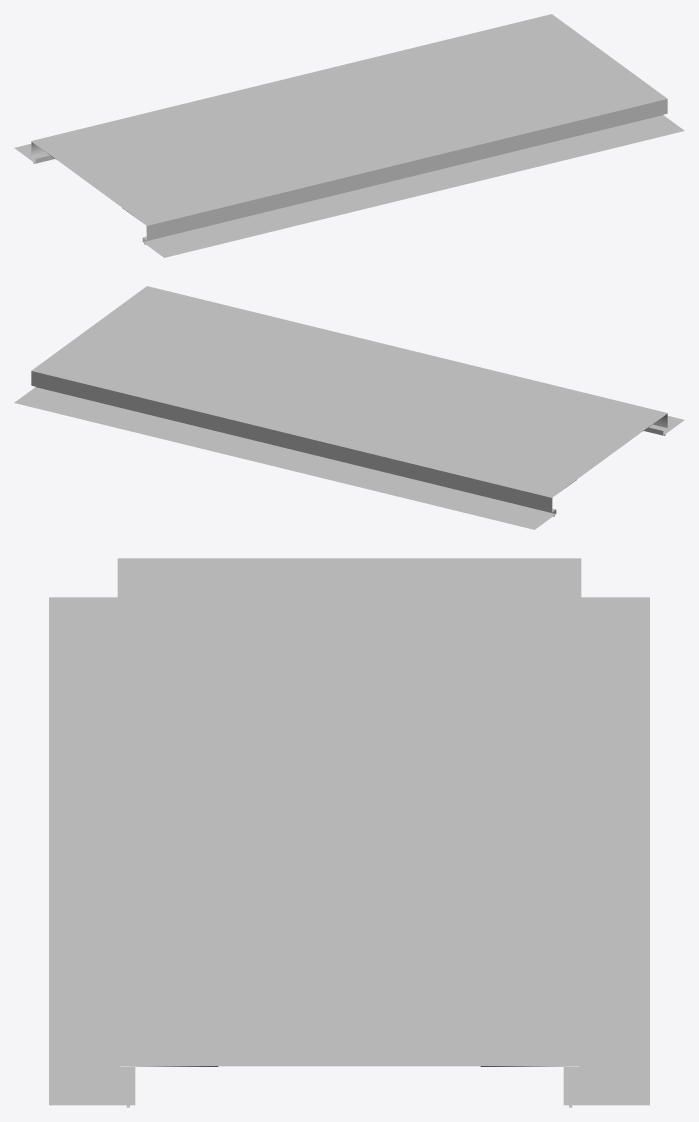
The model's file is Ceiling02_11_700x350cm.FBX.
3 views of the same model, one above another, from view 1: azimuth 30°, elevation 25°; view 2: azimuth 150°, elevation 25°; view 3: azimuth 270°, elevation 25° (orthographic). The views are drawn at different scales.
Parts seen in each view (by area): view 1: Ceiling; view 2: Ceiling; view 3: Ceiling.
Part boxes in pixels (<box>): Ceiling: <box>14,14,684,257</box>; Ceiling: <box>14,286,684,529</box>; Ceiling: <box>49,558,649,1105</box>.
Size of the model in its own units: 700 by 26.5 by 350.
